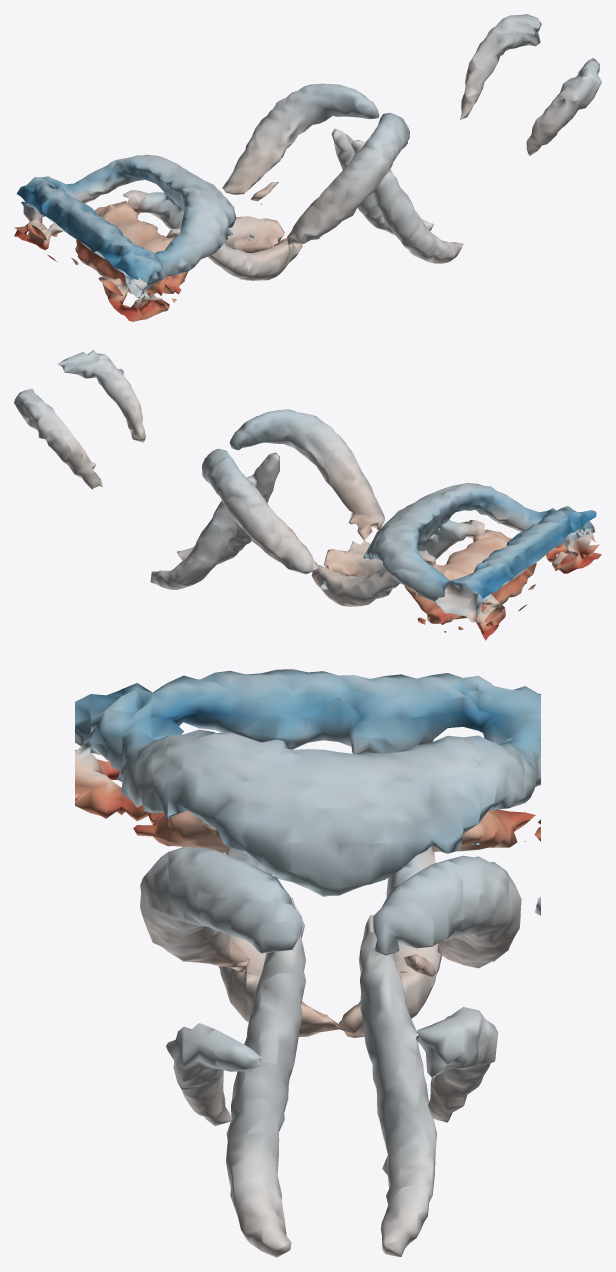
The picture shows the model from 3 angles, top to bottom: view 1: azimuth 30°, elevation 25°; view 2: azimuth 150°, elevation 25°; view 3: azimuth 270°, elevation 25°; orthographic projection. The views are drawn at different scales.
Size of the model in its own units: 6.17 by 2.09 by 2.5.
